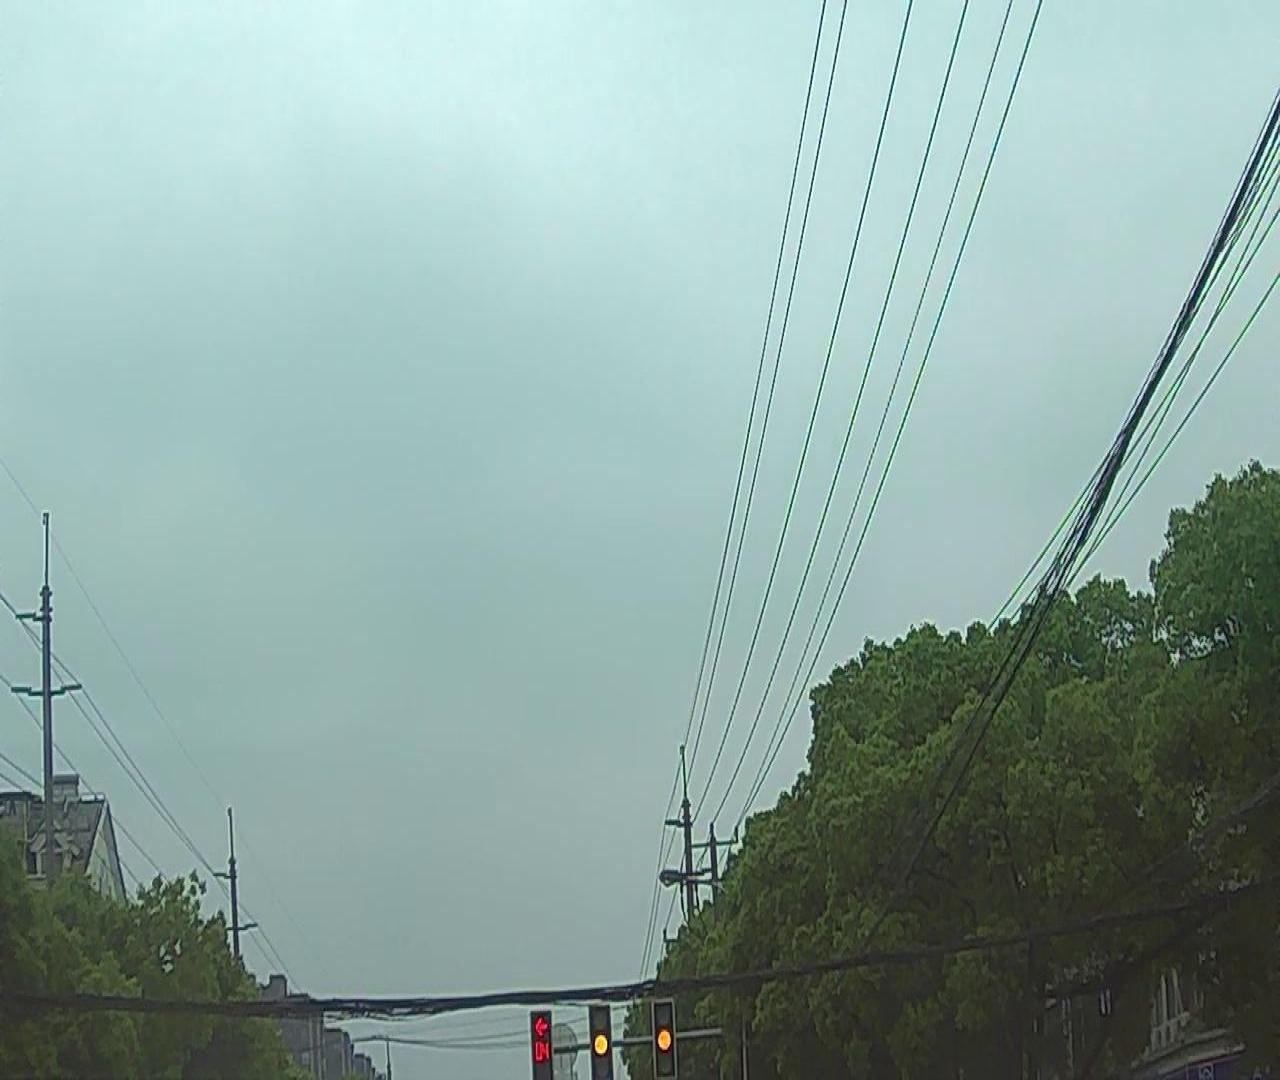red: (533, 1011, 552, 1075)
yellow: (590, 1002, 613, 1078), (653, 1005, 677, 1075)
